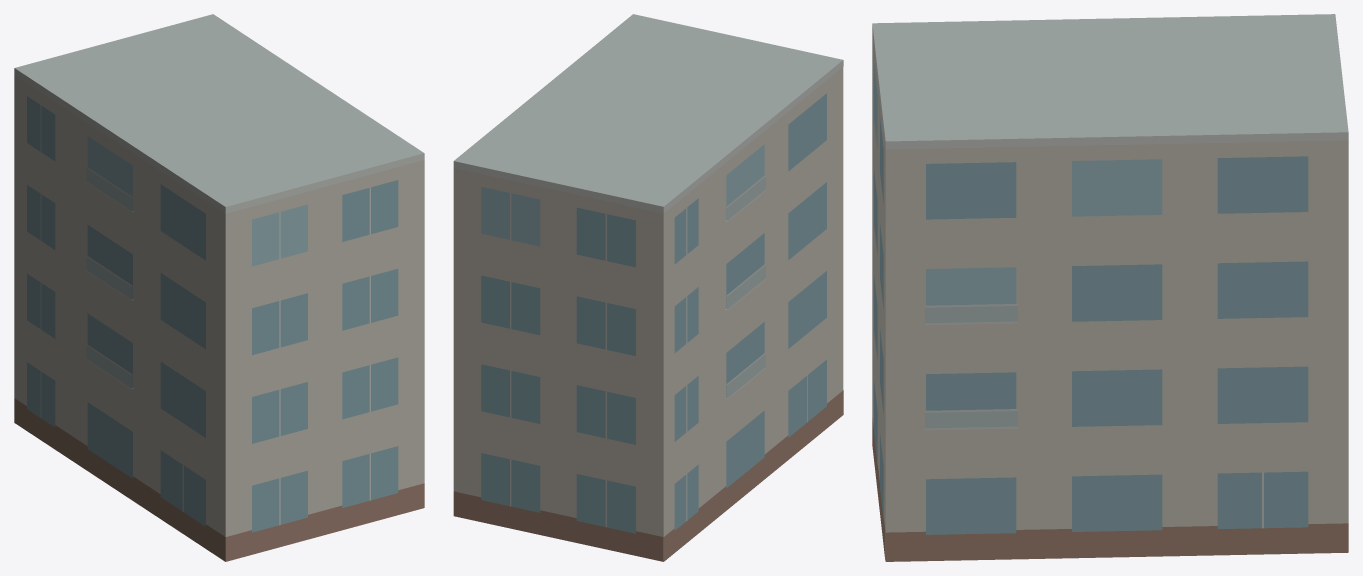
The model's file is survey-upis-32926972.glb.
The picture shows the model from 3 angles, left to right: view 1: azimuth 30°, elevation 25°; view 2: azimuth 150°, elevation 25°; view 3: azimuth 270°, elevation 25°; orthographic projection. The views are drawn at different scales.
Visible parts, largest first — view 1: survey-upis-32926972.tmp; view 2: survey-upis-32926972.tmp; view 3: survey-upis-32926972.tmp.
Boxes of the visible parts, <box> form: survey-upis-32926972.tmp: <box>14,14,424,561</box>; survey-upis-32926972.tmp: <box>453,14,843,561</box>; survey-upis-32926972.tmp: <box>872,14,1348,561</box>.
Bounding box in the file's own units: 8.33 × 12.8 × 13.15.
